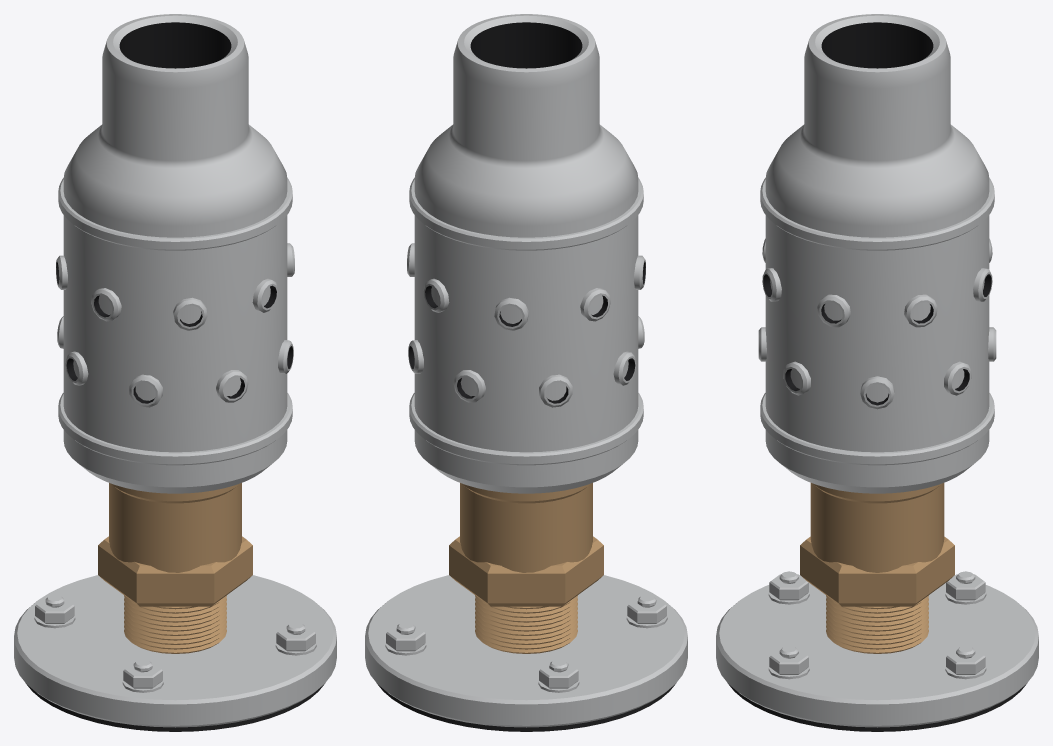
Rendered from nozzle_aerated_dn40.glb.
3 renders of one model, left to right at view 1: azimuth 30°, elevation 25°; view 2: azimuth 150°, elevation 25°; view 3: azimuth 270°, elevation 25°, orthographic.
Visible parts, largest first — view 1: Nozzle_Body; view 2: Nozzle_Body; view 3: Nozzle_Body.
Part boxes in pixels (x1,y1,x2,y2): Nozzle_Body: (14,14,336,731); Nozzle_Body: (365,14,687,731); Nozzle_Body: (716,14,1038,731).
Bounding box in the file's own units: 0.15 × 0.32 × 0.15.
